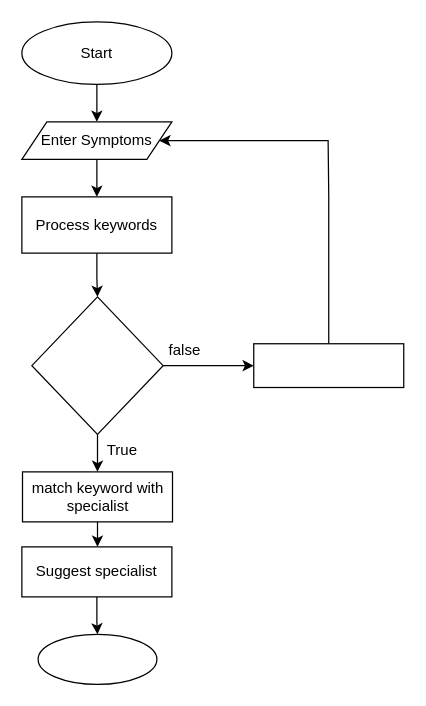
This 426x706 diagram has some shape labels left out. The centre of each missing label's shape, as x and y in pixels:
ask for more details: (x=328, y=365)
keyword in symptom list?: (x=97, y=365)
Stop: (x=97, y=658)
